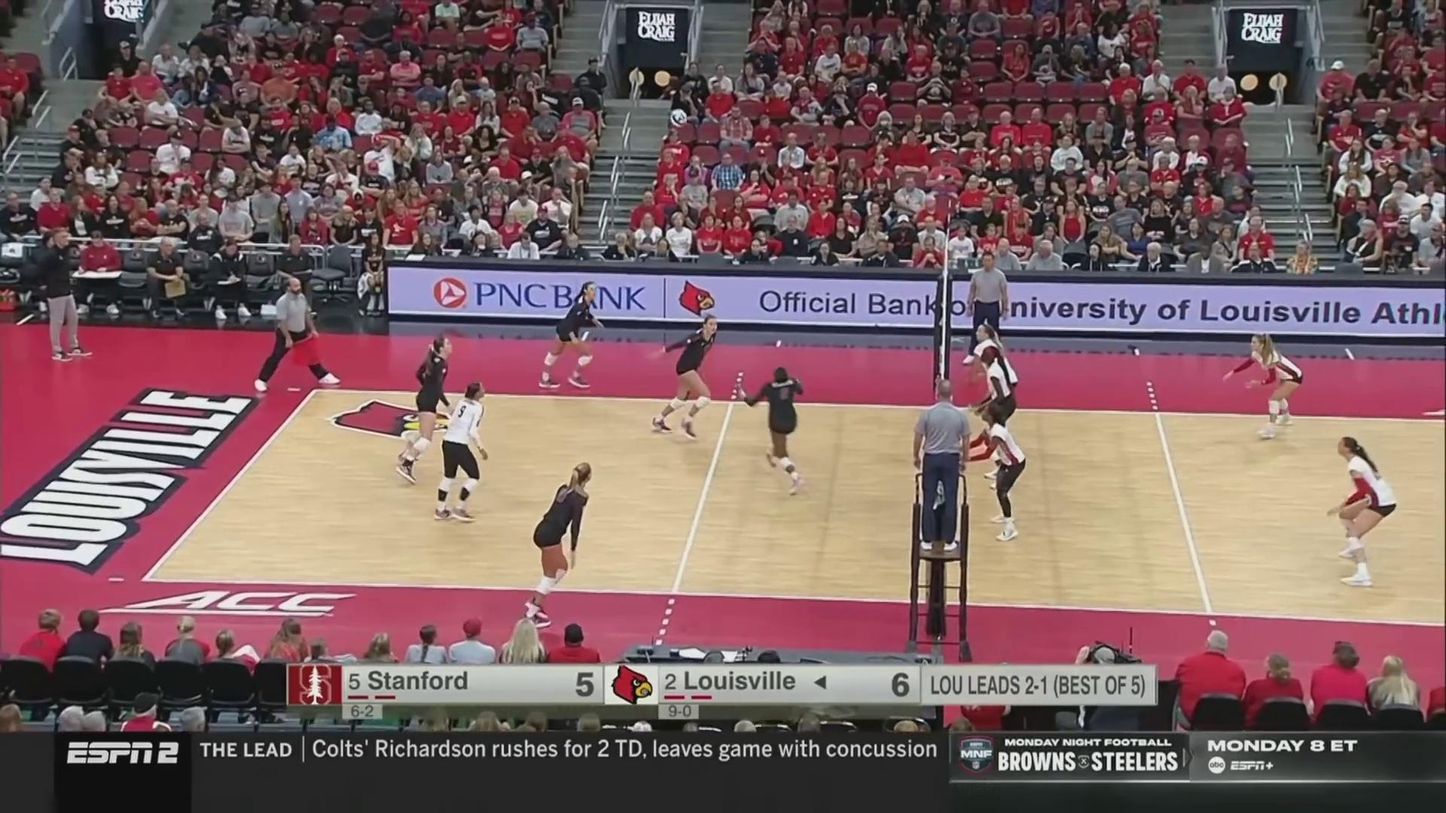player: (530, 464, 594, 629), (1327, 437, 1396, 587), (957, 407, 1026, 543), (650, 316, 719, 437), (1228, 334, 1305, 439), (397, 337, 453, 480), (433, 381, 490, 521), (744, 365, 805, 494), (967, 325, 1019, 446), (539, 283, 598, 389), (978, 346, 1018, 490)
refree: (912, 381, 971, 551), (255, 278, 341, 389), (966, 255, 1010, 364)
